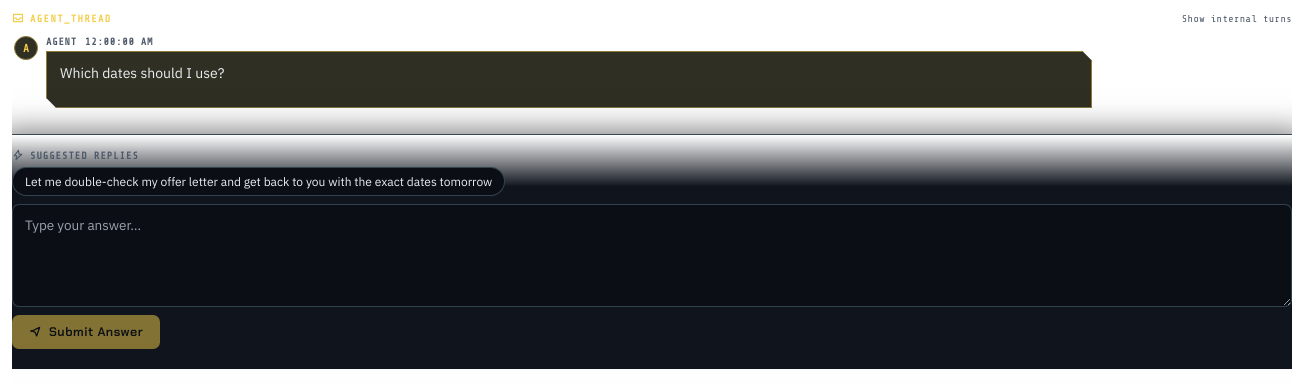
Test: AgentThread › clicking a long chip populates the textarea without sending
Click the button "Let me double-check my offer letter and get back to you with the exact dates tomorrow": click(259, 181) [12, 167, 505, 196]
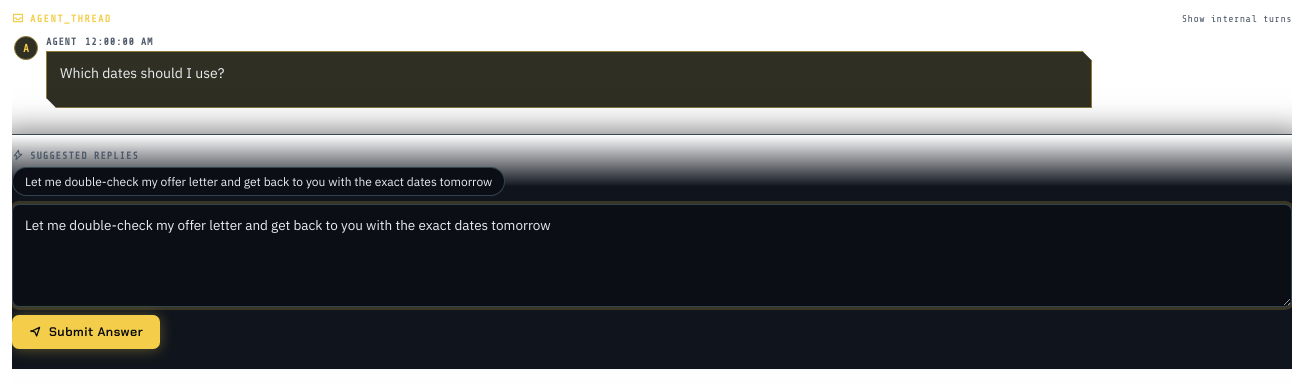
expect the text box holds "Let me double-check my offer letter and get back to you with the exact dates tomorrow": met, box [12, 204, 1292, 307]
